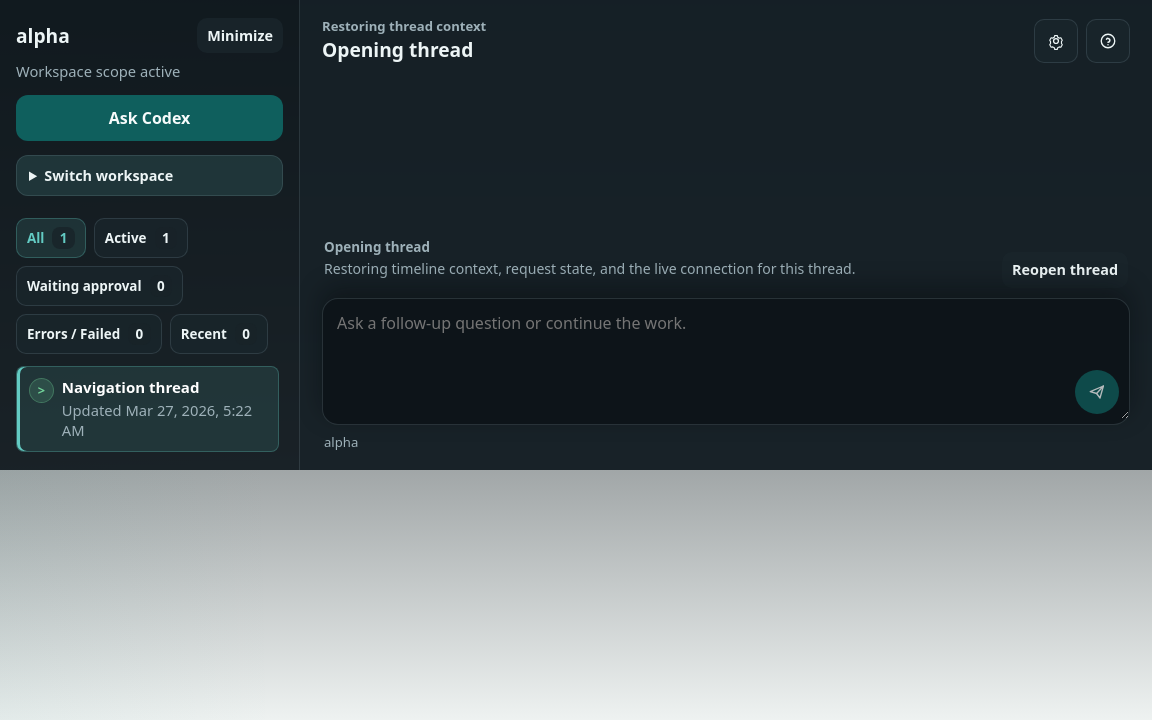
Test: ChatPageClient › does not restore stale thread view or request detail after Ask Codex clears a pending selected thread load
Click the button "Ask Codex": (150, 118) [16, 95, 283, 141]
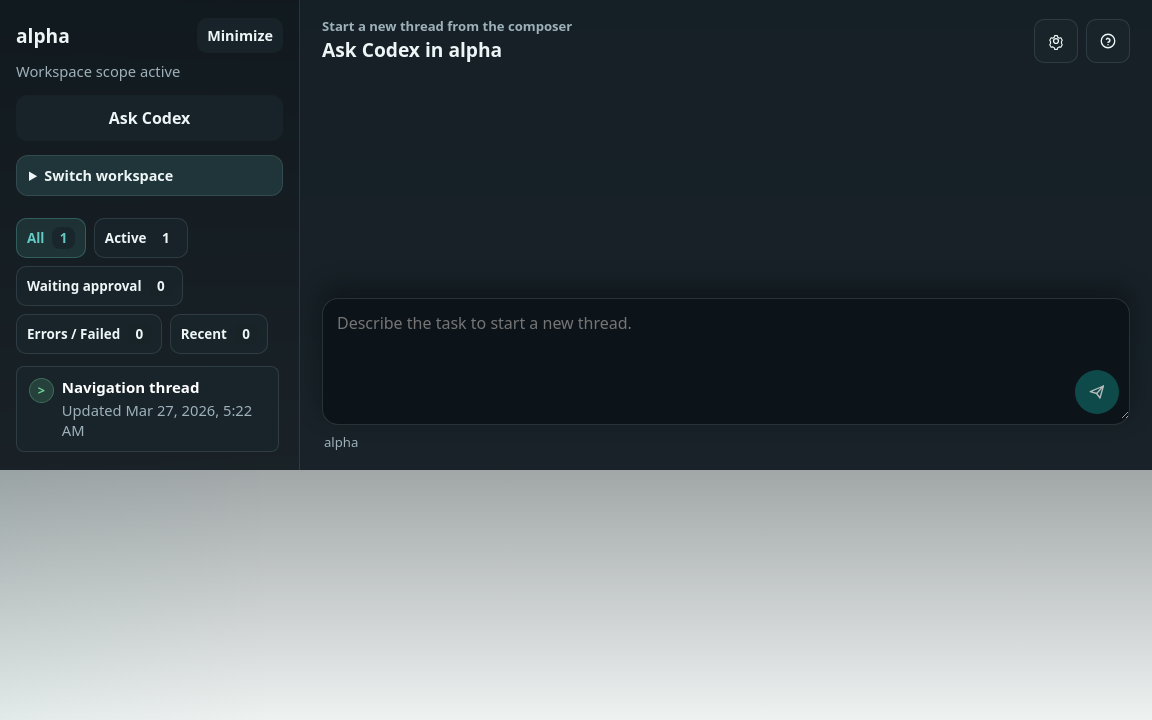
Check: the text "Opening thread" is gone
Check: the text "Ask Codex in alpha" is shown, box [322, 36, 502, 63]
Check: the text "Start a new thread from the composer" is shown, box [322, 18, 572, 34]
